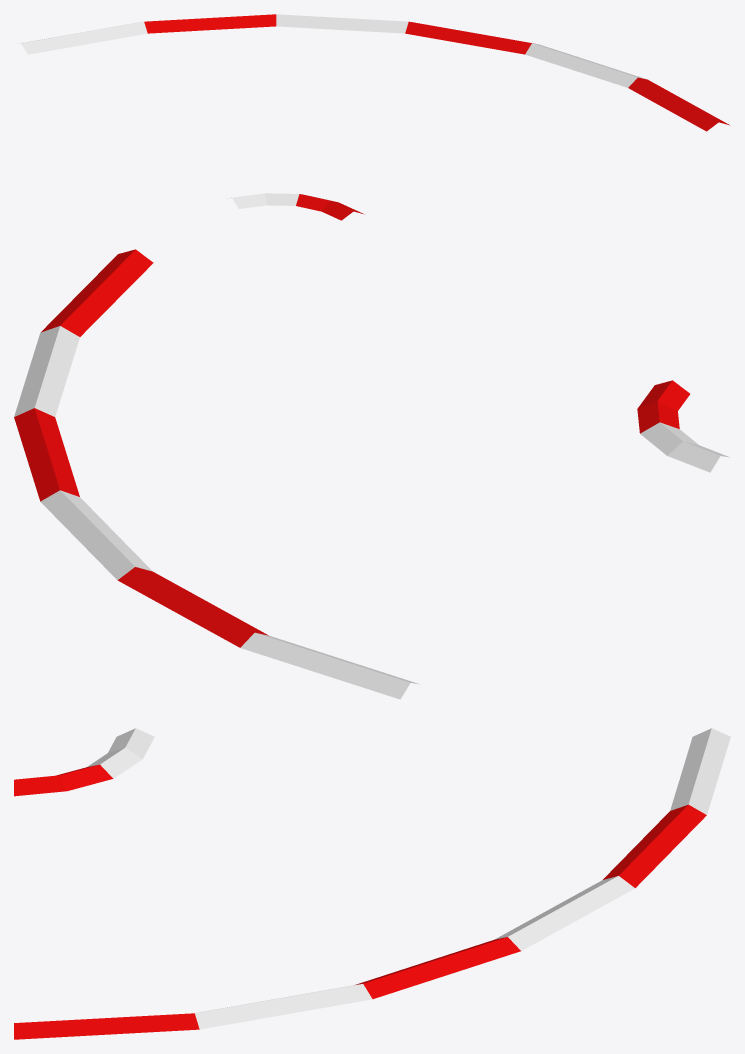
Rendered from Road_turn_02.fbx.
The picture shows the model from 3 angles, top to bottom: view 1: azimuth 30°, elevation 25°; view 2: azimuth 150°, elevation 25°; view 3: azimuth 270°, elevation 25°; orthographic projection. The views are drawn at different scales.
Parts seen in each view (by area): view 1: Road_turn_02; view 2: Road_turn_02; view 3: Road_turn_02.
Part boxes in pixels (x1,y1,x2,y2): Road_turn_02: [21, 14, 729, 220]; Road_turn_02: [14, 249, 730, 699]; Road_turn_02: [14, 728, 730, 1039].
Size of the model in its own units: 262 by 3.45 by 262.
